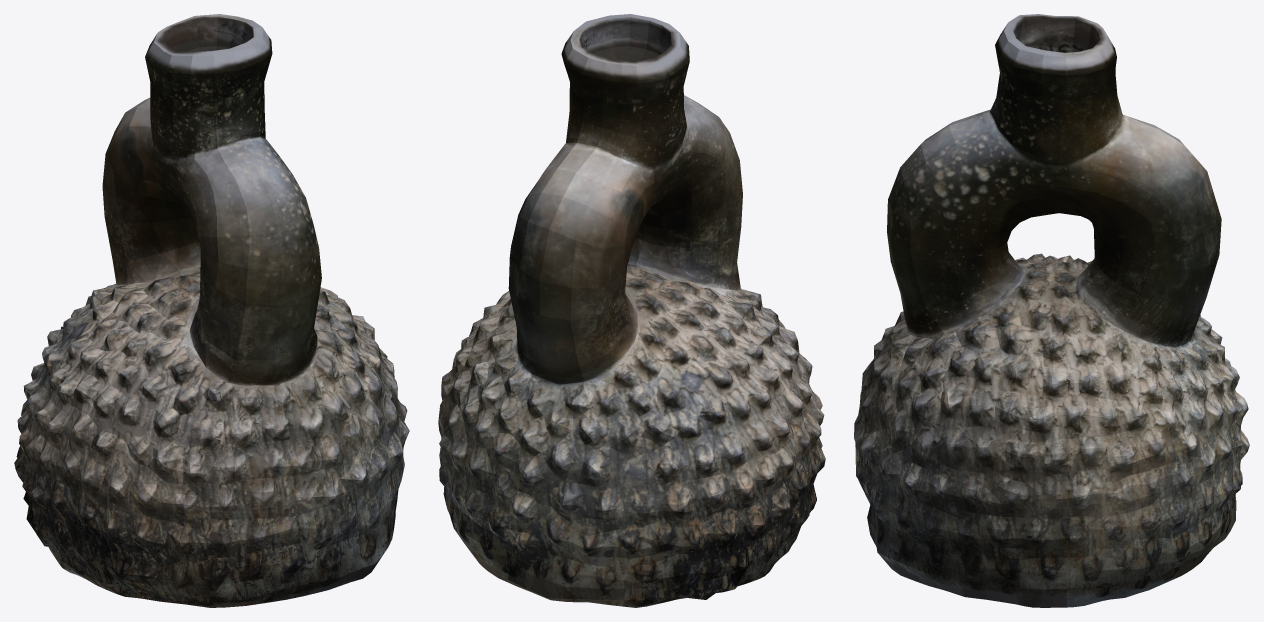
Rendered from 2_botella-203907-chavin.glb.
3 views of the same model, side by side, from view 1: azimuth 30°, elevation 25°; view 2: azimuth 150°, elevation 25°; view 3: azimuth 270°, elevation 25° (orthographic).
Visible parts, largest first — view 1: Box001; view 2: Box001; view 3: Box001.
Part boxes in pixels (x1,y1,x2,y2): Box001: (14, 14, 409, 607); Box001: (438, 14, 825, 607); Box001: (854, 14, 1249, 607).
Bounding box in the file's own units: 0.112 × 0.159 × 0.1132.
Materials: 1 (1 with a texture image).
